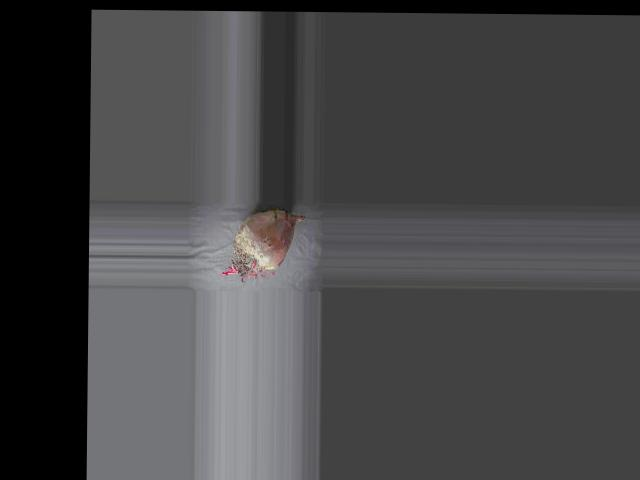beet: (220, 209, 307, 283)
